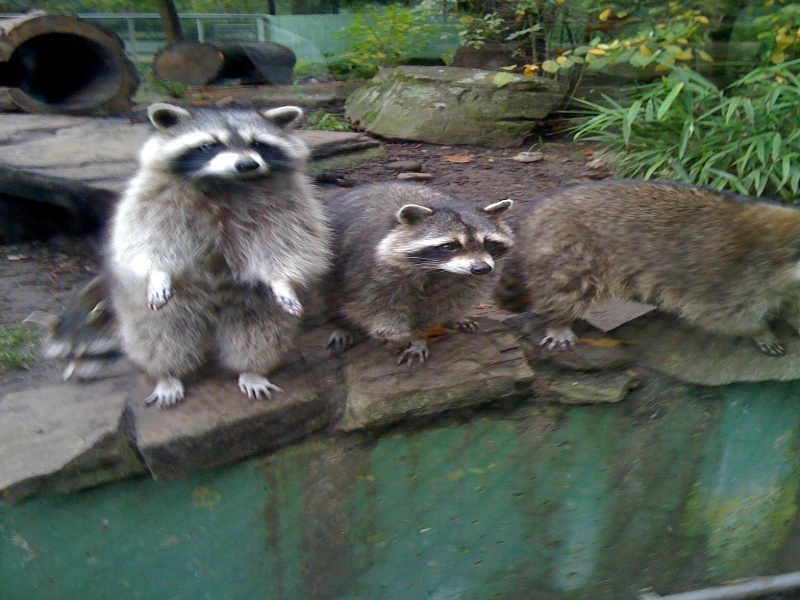raccoon: (103, 95, 330, 410), (487, 177, 798, 359), (309, 178, 518, 371)
